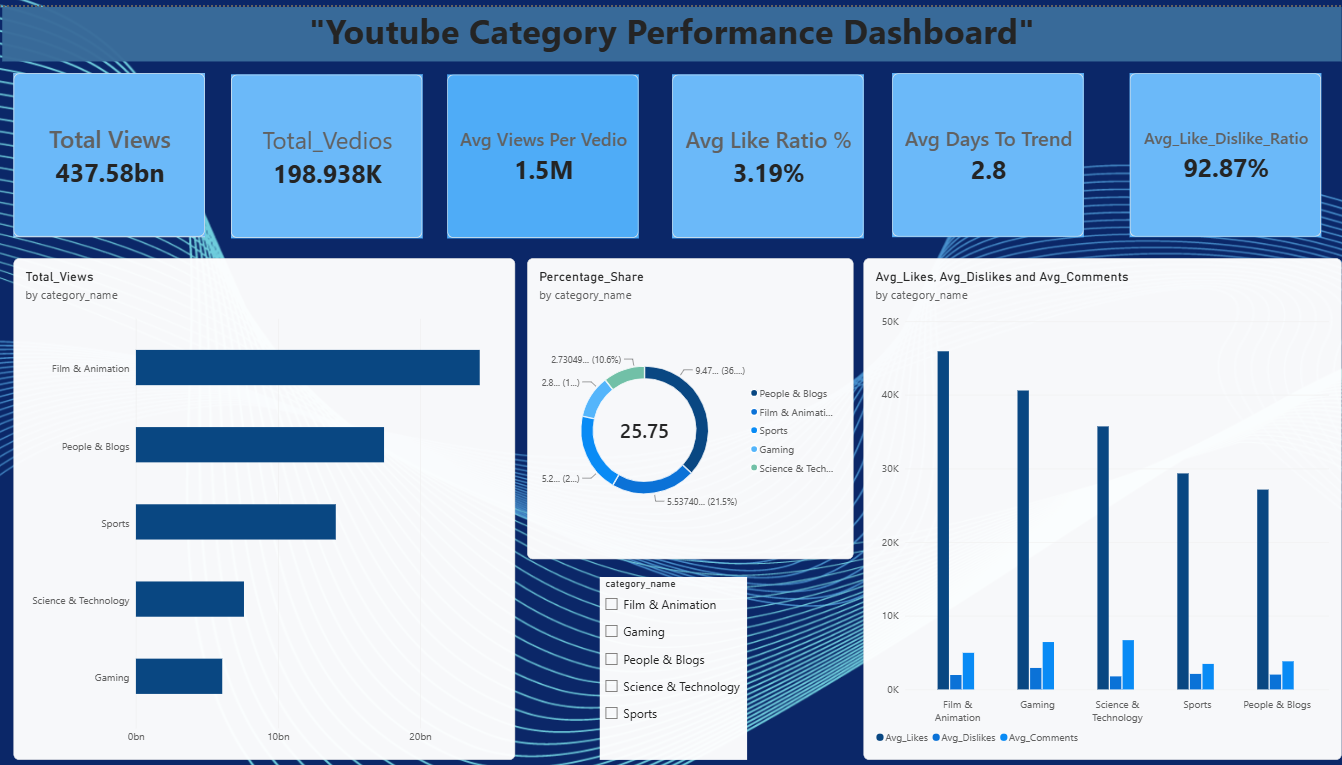

Layout of this report page (visuals, bound fields, positions):
{"tool":"powerbi","page":{"name":"Page 1","canvas":[1920,1080],"ordinal":0},"visuals":[{"type":"textbox","box":[22.6,0,1869,76.2],"z":0},{"type":"cardVisual","fields":{"Data":["Sum(category_performance_summary.video_count)"]},"box":[341.7,94.7,267.6,228.5],"z":1000},{"type":"cardVisual","fields":{"Data":["Sum(category_performance_summary.total_views)"]},"box":[39.1,92.6,267.6,228.5],"z":2000},{"type":"cardVisual","fields":{"Data":["Avg(category_performance_summary.avg_views)"]},"box":[644.3,94.7,267.6,228.5],"z":3000},{"type":"cardVisual","fields":{"Data":["Avg(category_performance_summary.avg_like_ratio)"]},"box":[957.1,94.7,267.6,228.5],"z":4000},{"type":"cardVisual","fields":{"Data":["Avg(category_performance_summary.avg_days_to_trend)"]},"box":[1263.8,92.6,267.6,228.5],"z":5000},{"type":"cardVisual","fields":{"Data":["Avg(category_performance_summary.avg_like_dislike_ratio)"]},"box":[1595.2,92.6,267.6,228.5],"z":6000},{"type":"clusteredBarChart","fields":{"Category":["category_performance_summary.category_name"],"Y":["Sum(category_performance_summary.total_views)"]},"box":[39.1,349.9,699.8,699.8],"z":7000},{"type":"donutChart","fields":{"Category":["category_performance_summary.category_name"],"Y":["Sum(category_performance_summary.pct_share)"]},"box":[755.4,349.9,454.9,419.9],"z":8000},{"type":"clusteredColumnChart","fields":{"Category":["category_performance_summary.category_name"],"Y":["Avg(category_performance_summary.avg_likes)","Avg(category_performance_summary.avg_dislikes)","Avg(category_performance_summary.avg_comments)"]},"box":[1224.7,349.9,666.9,699.8],"z":9000},{"type":"slicer","fields":{"Values":["category_performance_summary.category_name"]},"box":[856.3,794.5,205.8,255.2],"z":9001}]}

Visuals, with their boxes in screenshot pixels (x1, y1, x2, y2), scaled from the page's 1920x1080 canvas onto the 1342x765 screenshot:
textbox: x1=16, y1=0, x2=1322, y2=54
cardVisual - Sum(category_performance_summary.video_count): x1=239, y1=67, x2=426, y2=229
cardVisual - Sum(category_performance_summary.total_views): x1=27, y1=66, x2=214, y2=227
cardVisual - Avg(category_performance_summary.avg_views): x1=450, y1=67, x2=637, y2=229
cardVisual - Avg(category_performance_summary.avg_like_ratio): x1=669, y1=67, x2=856, y2=229
cardVisual - Avg(category_performance_summary.avg_days_to_trend): x1=883, y1=66, x2=1070, y2=227
cardVisual - Avg(category_performance_summary.avg_like_dislike_ratio): x1=1115, y1=66, x2=1302, y2=227
clusteredBarChart - category_performance_summary.category_name x Sum(category_performance_summary.total_views): x1=27, y1=248, x2=516, y2=744
donutChart - category_performance_summary.category_name x Sum(category_performance_summary.pct_share): x1=528, y1=248, x2=846, y2=545
clusteredColumnChart - category_performance_summary.category_name x Avg(category_performance_summary.avg_likes): x1=856, y1=248, x2=1322, y2=744
slicer - category_performance_summary.category_name: x1=599, y1=563, x2=742, y2=744
